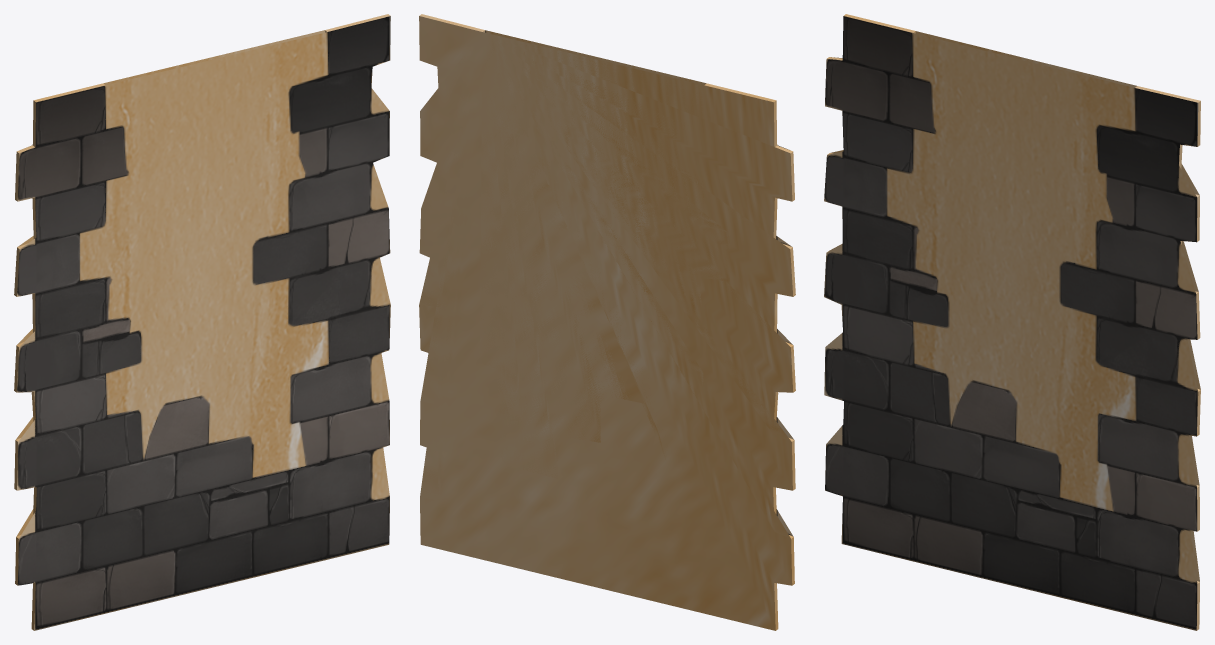
Rendered from murcasse.fbx.
3 renders of one model, left to right at view 1: azimuth 30°, elevation 25°; view 2: azimuth 150°, elevation 25°; view 3: azimuth 330°, elevation 25°, orthographic.
Visible parts, largest first — view 1: T_Sc_Eglise.012; view 2: T_Sc_Eglise.012; view 3: T_Sc_Eglise.012.
Part boxes in pixels (x1,y1,x2,y2): T_Sc_Eglise.012: (14, 14, 390, 630); T_Sc_Eglise.012: (419, 14, 795, 630); T_Sc_Eglise.012: (824, 14, 1200, 630).
Size of the model in its own units: 162 by 218 by 2.
